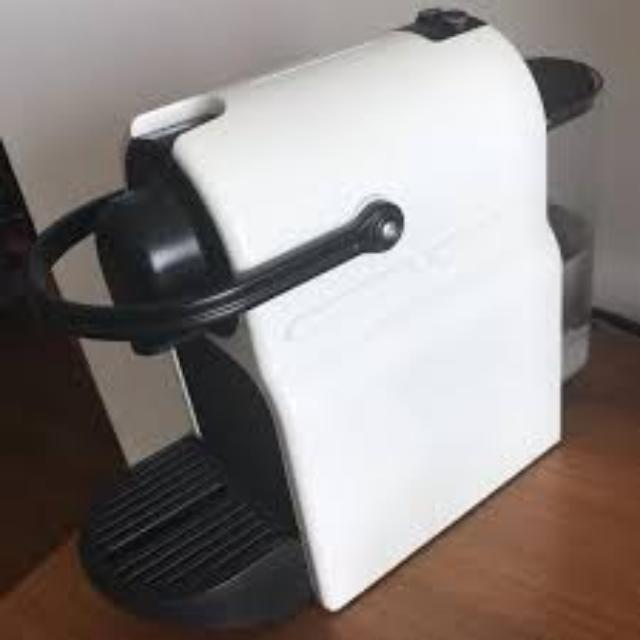Coffee-Machine: (22, 3, 608, 634)
